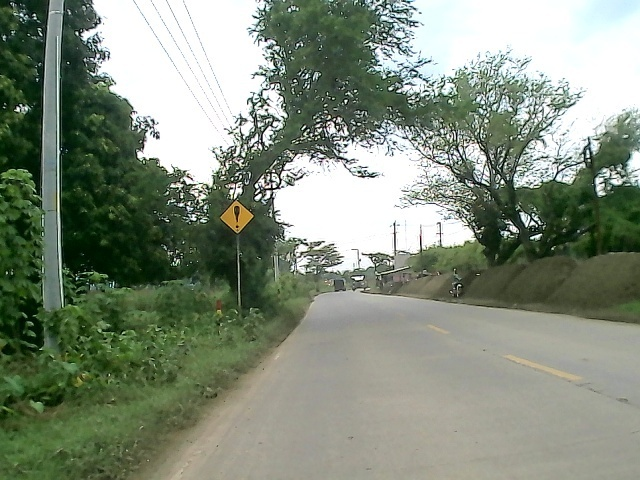Hati-hati: (218, 199, 256, 236)
